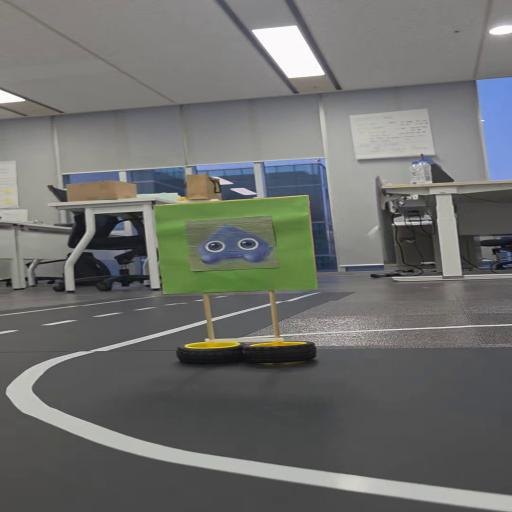Sign_B: (146, 191, 344, 376)
